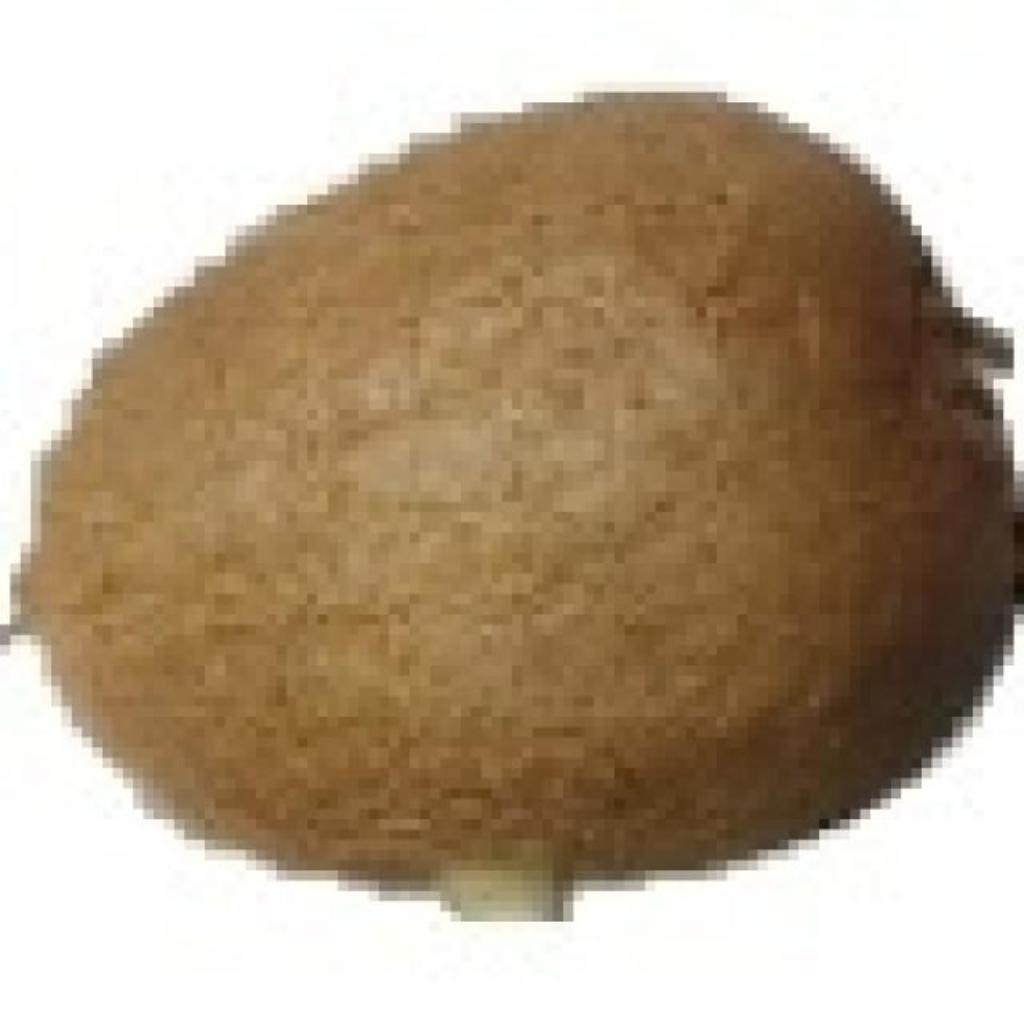kiwi: (10, 82, 993, 891)
